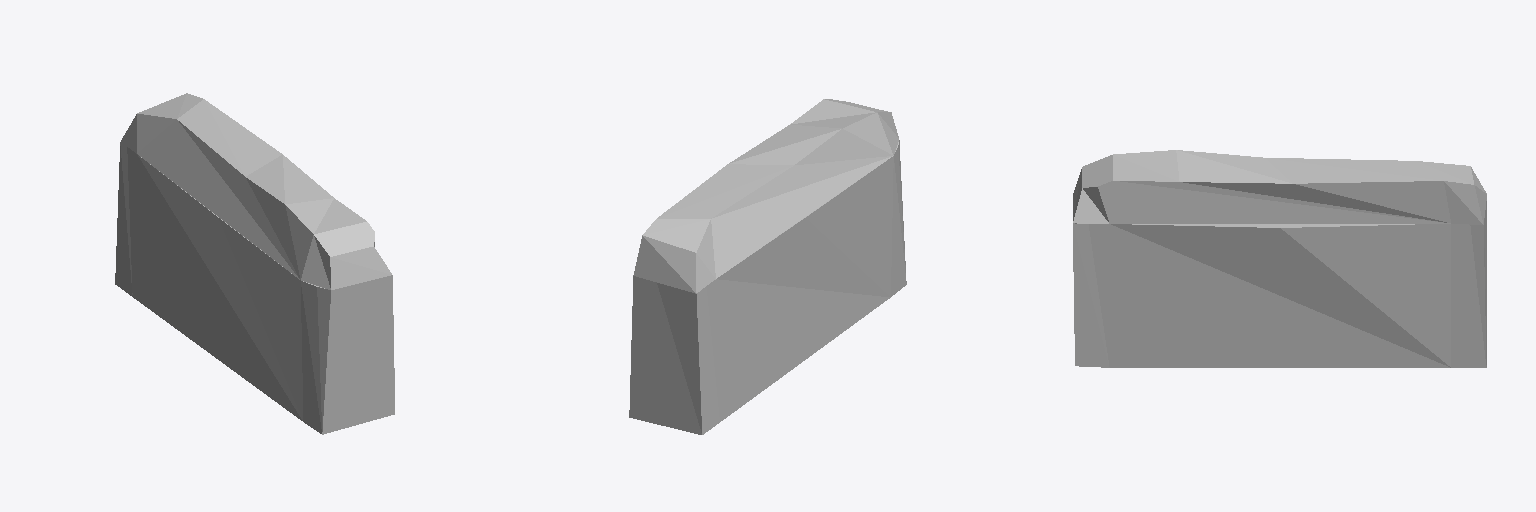
The model's file is hedge.obj.
The picture shows the model from 3 angles: view 1: azimuth 30°, elevation 25°; view 2: azimuth 150°, elevation 25°; view 3: azimuth 270°, elevation 25°; orthographic projection.
Visible parts, largest first — view 1: Cube.001_Cube.002; view 2: Cube.001_Cube.002; view 3: Cube.001_Cube.002.
Boxes of the visible parts, box(x1,y1,x2,y2) form: Cube.001_Cube.002: box(115, 93, 394, 434); Cube.001_Cube.002: box(629, 99, 906, 434); Cube.001_Cube.002: box(1073, 150, 1486, 367).
Size of the model in its own units: 0.8835 by 1.98 by 3.91.